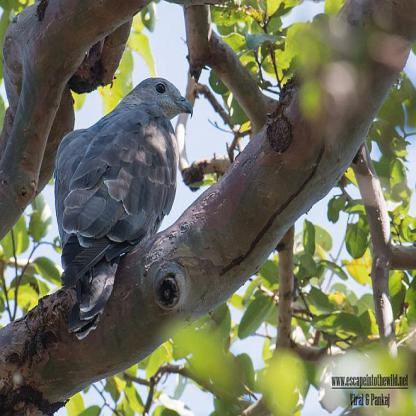Burung: (38, 77, 196, 336)
